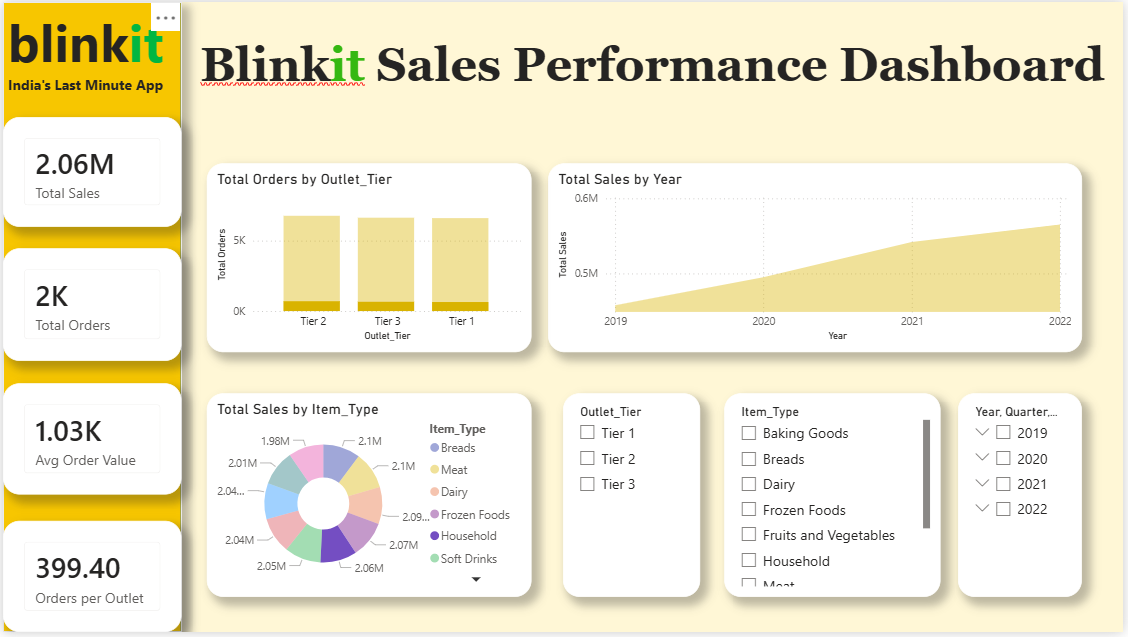

Layout of this report page (visuals, bound fields, positions):
{"tool":"powerbi","page":{"name":"Page 1","canvas":[1280,720],"ordinal":0},"visuals":[{"type":"shape","box":[0,0,203.9,720.2],"z":0},{"type":"textbox","box":[0,0,203.9,720.2],"z":1000},{"type":"cardVisual","fields":{"Data":["Blinkit_High_Volume_Sales_Data_20K.Total Sales"]},"box":[0,131.4,204.3,125.7],"z":2000},{"type":"cardVisual","fields":{"Data":["Blinkit_High_Volume_Sales_Data_20K.Total Orders"]},"box":[0,281.4,204.3,128.6],"z":3000},{"type":"cardVisual","fields":{"Data":["Blinkit_High_Volume_Sales_Data_20K.Avg Order Value"]},"box":[0,435.7,204.3,127.1],"z":4000},{"type":"textbox","box":[204.3,37.1,1075.7,94.3],"z":5000},{"type":"cardVisual","fields":{"Data":["Blinkit_High_Volume_Sales_Data_20K.Orders per Outlet"]},"box":[0,592.9,204.3,127.1],"z":6000},{"type":"stackedAreaChart","fields":{"Category":["Blinkit_High_Volume_Sales_Data_20K.Order_Date.Variation.Date Hierarchy.Year","Blinkit_High_Volume_Sales_Data_20K.Order_Date.Variation.Date Hierarchy.Quarter","Blinkit_High_Volume_Sales_Data_20K.Order_Date.Variation.Date Hierarchy.Month","Blinkit_High_Volume_Sales_Data_20K.Order_Date.Variation.Date Hierarchy.Day"],"Y":["Blinkit_High_Volume_Sales_Data_20K.Total Sales"]},"box":[622.9,184.3,610,215.7],"z":7000},{"type":"clusteredColumnChart","fields":{"Category":["Blinkit_High_Volume_Sales_Data_20K.Outlet_Tier"],"Y":["Blinkit_High_Volume_Sales_Data_20K.Total Orders"]},"box":[232.9,184.3,371.4,215.7],"z":8000},{"type":"donutChart","fields":{"Category":["Blinkit_High_Volume_Sales_Data_20K.Item_Type"],"Y":["Blinkit_High_Volume_Sales_Data_20K.Total Sales"]},"box":[232.9,447.1,371.4,232.9],"z":9000},{"type":"slicer","fields":{"Values":["Blinkit_High_Volume_Sales_Data_20K.Outlet_Tier"]},"box":[640,447.1,157.1,232.9],"z":10000},{"type":"slicer","fields":{"Values":["Blinkit_High_Volume_Sales_Data_20K.Item_Type"]},"box":[824.3,447.1,247.1,232.9],"z":11000},{"type":"slicer","fields":{"Values":["Blinkit_High_Volume_Sales_Data_20K.Order_Date.Variation.Date Hierarchy.Year","Blinkit_High_Volume_Sales_Data_20K.Order_Date.Variation.Date Hierarchy.Quarter","Blinkit_High_Volume_Sales_Data_20K.Order_Date.Variation.Date Hierarchy.Month","Blinkit_High_Volume_Sales_Data_20K.Order_Date.Variation.Date Hierarchy.Day"]},"box":[1091.4,447.1,141.4,232.9],"z":12000}]}

Visuals, with their boxes in screenshot pixels (x1, y1, x2, y2), scaled from the page's 1280x720 canvas onto the 1128x637 screenshot:
shape: BBox(0, 0, 180, 636)
textbox: BBox(0, 0, 180, 636)
cardVisual - Blinkit_High_Volume_Sales_Data_20K.Total Sales: BBox(0, 116, 180, 227)
cardVisual - Blinkit_High_Volume_Sales_Data_20K.Total Orders: BBox(0, 249, 180, 363)
cardVisual - Blinkit_High_Volume_Sales_Data_20K.Avg Order Value: BBox(0, 385, 180, 498)
textbox: BBox(180, 33, 1127, 116)
cardVisual - Blinkit_High_Volume_Sales_Data_20K.Orders per Outlet: BBox(0, 525, 180, 636)
stackedAreaChart - Blinkit_High_Volume_Sales_Data_20K.Order_Date.Variation.Date Hierarchy.Year x Blinkit_High_Volume_Sales_Data_20K.Order_Date.Variation.Date Hierarchy.Quarter: BBox(549, 163, 1086, 354)
clusteredColumnChart - Blinkit_High_Volume_Sales_Data_20K.Outlet_Tier x Blinkit_High_Volume_Sales_Data_20K.Total Orders: BBox(205, 163, 533, 354)
donutChart - Blinkit_High_Volume_Sales_Data_20K.Item_Type x Blinkit_High_Volume_Sales_Data_20K.Total Sales: BBox(205, 396, 533, 602)
slicer - Blinkit_High_Volume_Sales_Data_20K.Outlet_Tier: BBox(564, 396, 702, 602)
slicer - Blinkit_High_Volume_Sales_Data_20K.Item_Type: BBox(726, 396, 944, 602)
slicer - Blinkit_High_Volume_Sales_Data_20K.Order_Date.Variation.Date Hierarchy.Year x Blinkit_High_Volume_Sales_Data_20K.Order_Date.Variation.Date Hierarchy.Quarter: BBox(962, 396, 1086, 602)
